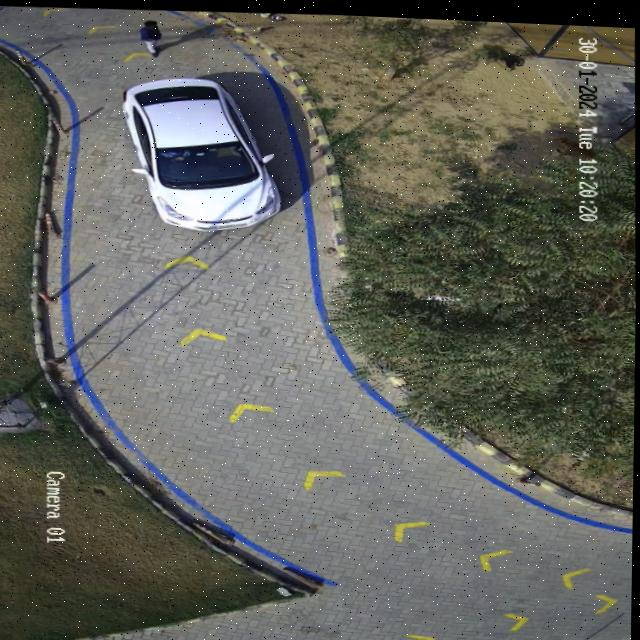car: (123, 76, 280, 228)
